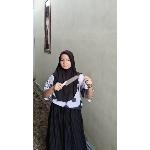Pisau: (53, 74, 82, 90)
